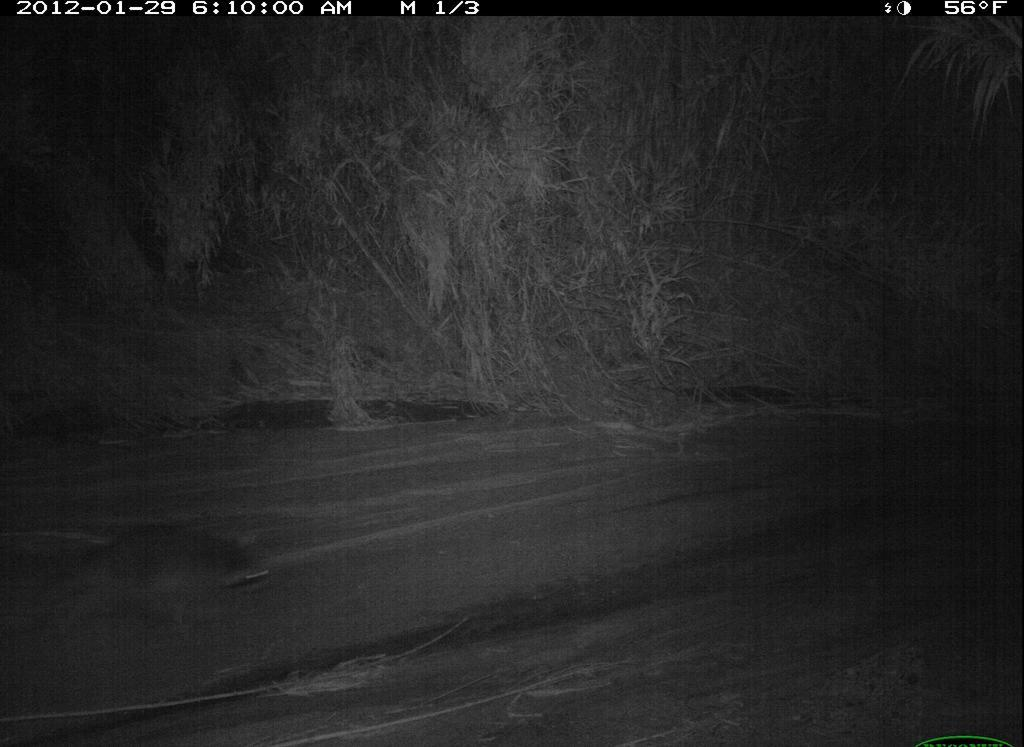raccoon: (13, 510, 286, 666)
